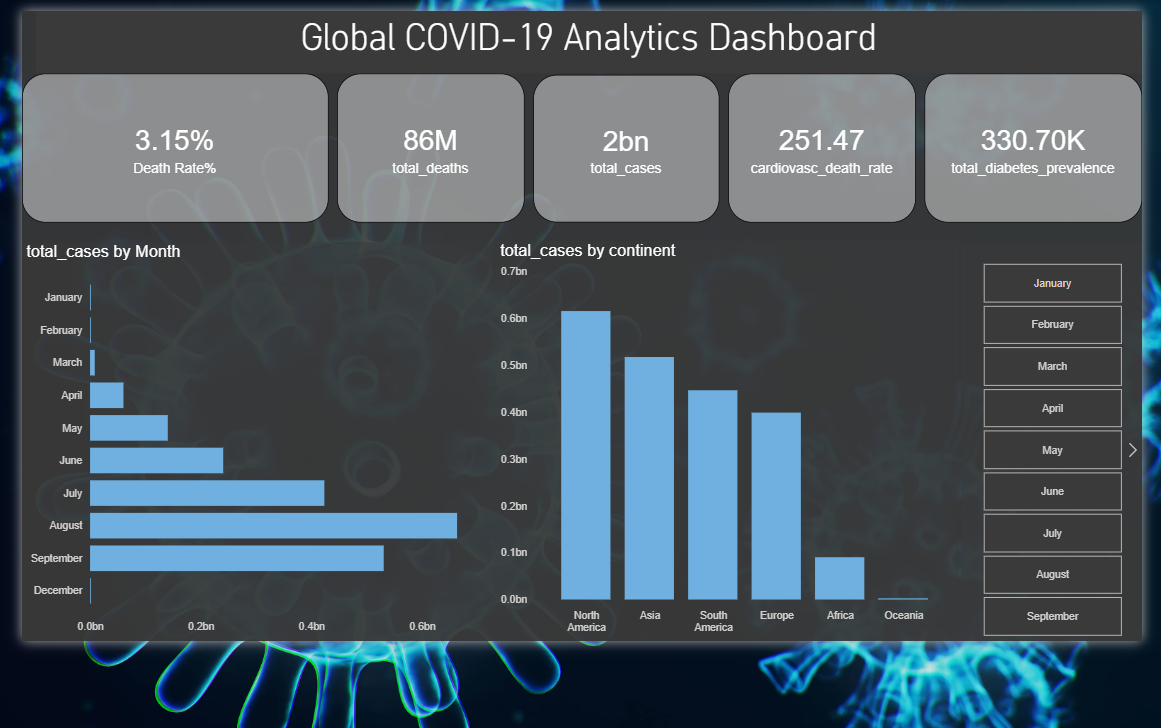

This screenshot's page, from the dashboard's own definition file:
{"tool":"powerbi","page":{"name":"Page 1","canvas":[1280,720],"ordinal":0},"visuals":[{"type":"barChart","fields":{"Category":["owid-covid-data (2).date.Variation.Date Hierarchy.Month"],"Y":["Sum(owid-covid-data (2).total_cases)"]},"box":[0,264.3,541.4,455.7],"z":0},{"type":"card","fields":{"Values":["Sum(owid-covid-data (2).total_deaths)"]},"box":[360,71.4,214.3,170],"z":2},{"type":"card","fields":{"Values":["Avg(owid-covid-data (2).Death Rate%)"]},"box":[0,71.4,350,170],"z":3},{"type":"card","fields":{"Values":["Sum(owid-covid-data (2).total_cases)"]},"box":[584.3,72.9,212.9,168.6],"z":4},{"type":"card","fields":{"Values":["Avg(owid-covid-data (2).cardiovasc_death_rate)"]},"box":[807.1,71.4,214.3,170],"z":5},{"type":"card","fields":{"Values":["Sum(owid-covid-data (2).diabetes_prevalence)"]},"box":[1031.4,71.4,248.6,170],"z":7},{"type":"columnChart","fields":{"Category":["owid-covid-data (2).continent"],"Y":["Sum(owid-covid-data (2).total_cases)"]},"box":[542,263.5,529.7,456.9],"z":8},{"type":"slicer","fields":{"Values":["owid-covid-data (2).date.Variation.Date Hierarchy.Month"]},"box":[1072.3,263.7,207.7,456.5],"z":9},{"type":"textbox","box":[15.7,0,1264.3,71.4],"z":10}]}

Visuals, with their boxes on the page's 1280x720 design canvas (x1, y1, x2, y2). These are canvas units, not pixel positions in the 1161x728 screenshot, which may show the page scaled, cropped or inside an application window:
barChart - owid-covid-data (2).date.Variation.Date Hierarchy.Month x Sum(owid-covid-data (2).total_cases): bbox=[0, 264, 541, 720]
card - Sum(owid-covid-data (2).total_deaths): bbox=[360, 71, 574, 241]
card - Avg(owid-covid-data (2).Death Rate%): bbox=[0, 71, 350, 241]
card - Sum(owid-covid-data (2).total_cases): bbox=[584, 73, 797, 242]
card - Avg(owid-covid-data (2).cardiovasc_death_rate): bbox=[807, 71, 1021, 241]
card - Sum(owid-covid-data (2).diabetes_prevalence): bbox=[1031, 71, 1280, 241]
columnChart - owid-covid-data (2).continent x Sum(owid-covid-data (2).total_cases): bbox=[542, 264, 1072, 720]
slicer - owid-covid-data (2).date.Variation.Date Hierarchy.Month: bbox=[1072, 264, 1280, 720]
textbox: bbox=[16, 0, 1280, 71]
